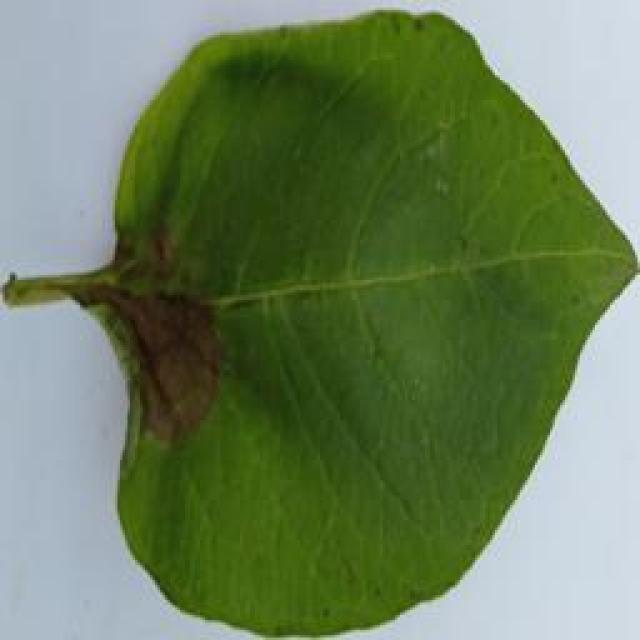Potato_Late_Blight: (5, 10, 627, 638)
